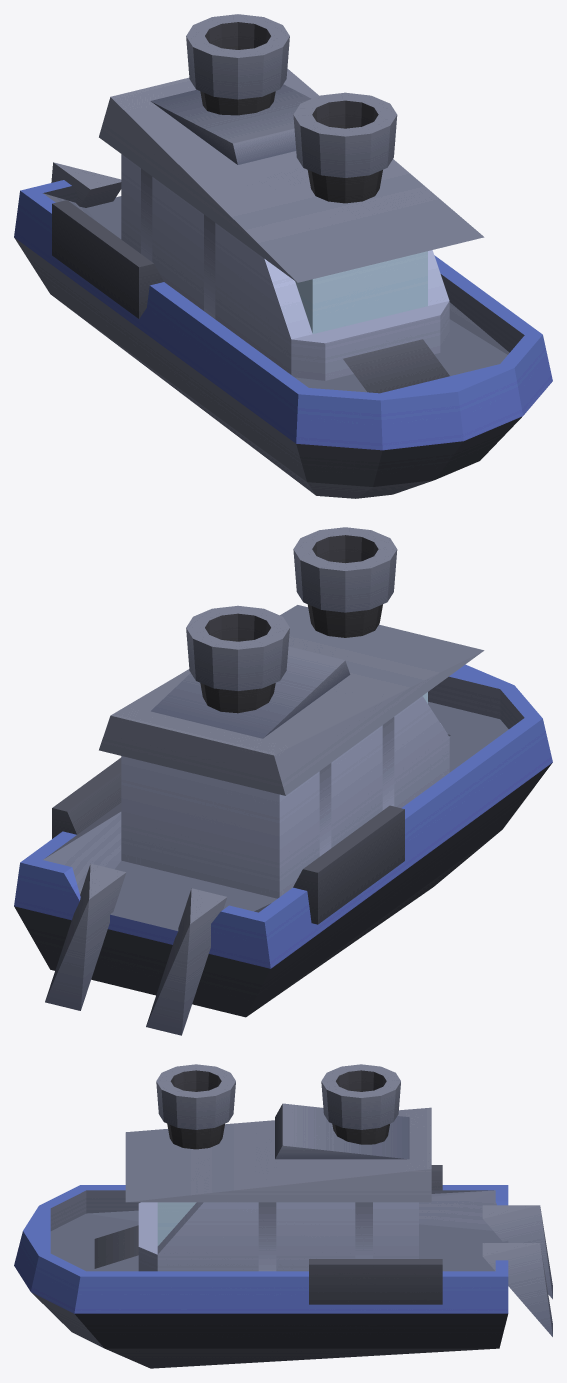
Rendered from boat-tug.glb.
3 views of the same model, one above another, from view 1: azimuth 30°, elevation 25°; view 2: azimuth 150°, elevation 25°; view 3: azimuth 270°, elevation 25° (orthographic). The views are drawn at different scales.
Parts seen in each view (by area): view 1: boat-tow-a; view 2: boat-tow-a; view 3: boat-tow-a.
Boxes of the visible parts, x1,y1,x2,y2 form: boat-tow-a: (14,14,552,498); boat-tow-a: (14,527,552,1035); boat-tow-a: (14,1064,552,1368).
Size of the model in its own units: 2.68 by 3.33 by 6.12.
1 material, 1 textured.
